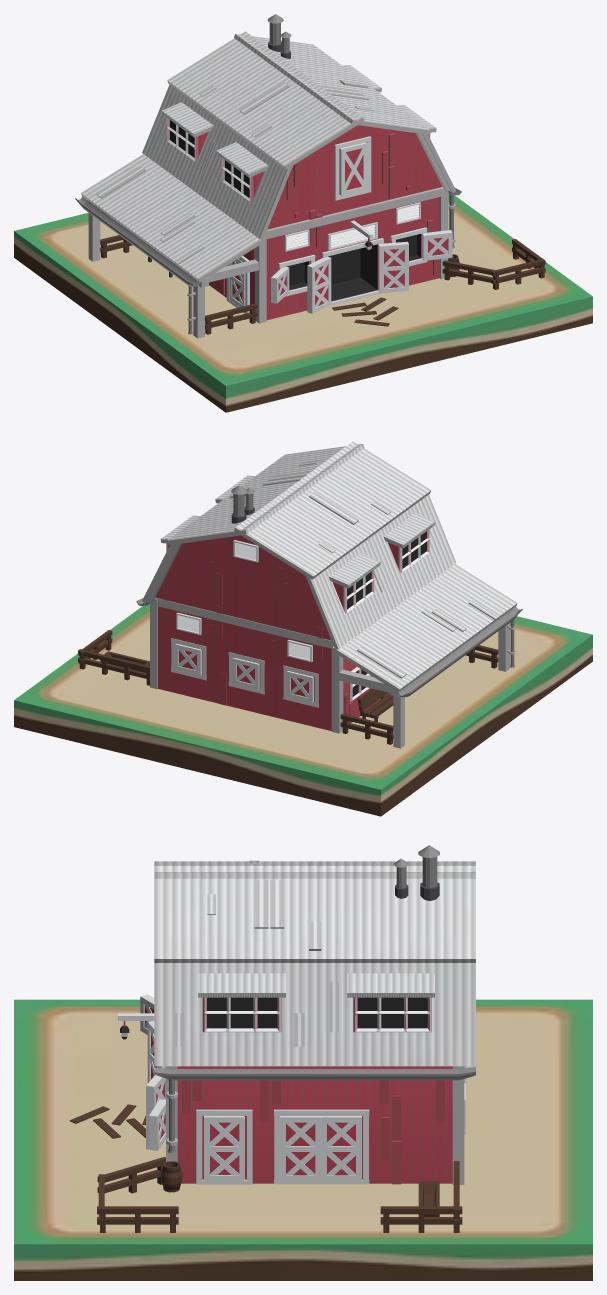
The model's file is 5wrqegJ4NzT.glb.
3 renders of one model, top to bottom at view 1: azimuth 30°, elevation 25°; view 2: azimuth 150°, elevation 25°; view 3: azimuth 270°, elevation 25°, orthographic. The views are drawn at different scales.
Visible parts, largest first — view 1: Barn1; view 2: Barn1; view 3: Barn1.
Part boxes in pixels (left/top/right/bottom): Barn1: left=14, top=14, right=592, bottom=412; Barn1: left=14, top=441, right=592, bottom=816; Barn1: left=14, top=845, right=592, bottom=1280.
Size of the model in its own units: 1.61 by 1 by 1.61.
1 material, 1 textured.
